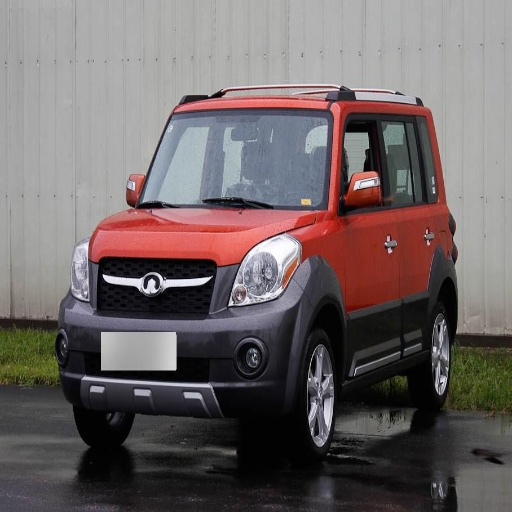front_bumper: (59, 254, 308, 413)
front_glass: (132, 114, 332, 209)
front_left_door: (337, 110, 401, 366)
